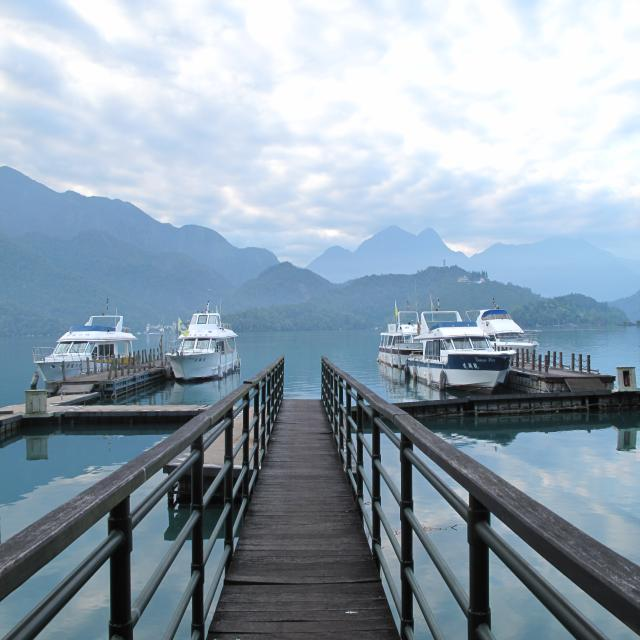houseboat: (31, 294, 150, 384), (142, 300, 237, 396)
